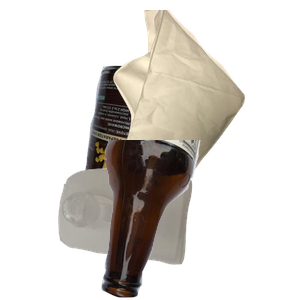glass: (99, 140, 300, 300)
metal: (78, 63, 266, 243)
plastic: (56, 166, 241, 300)
trash: (111, 10, 300, 190)
